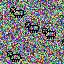sheep: (6, 50, 22, 63), (25, 21, 40, 34), (41, 27, 56, 39), (10, 7, 24, 19)
